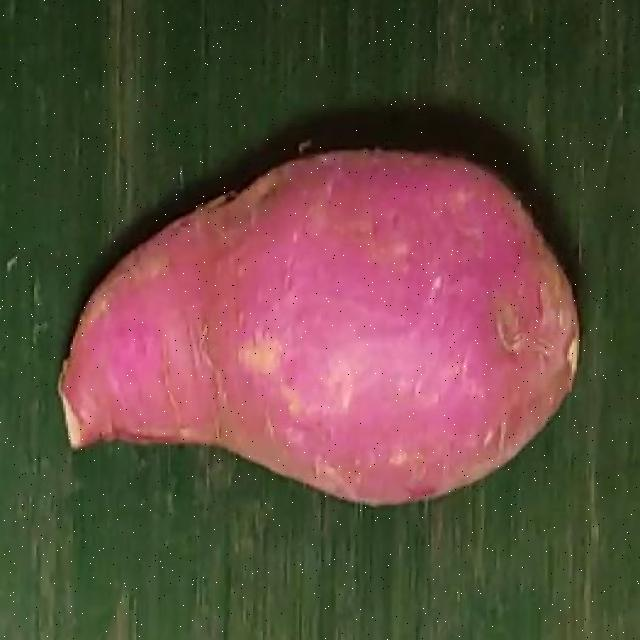Sweet Potato: (57, 149, 578, 508)
